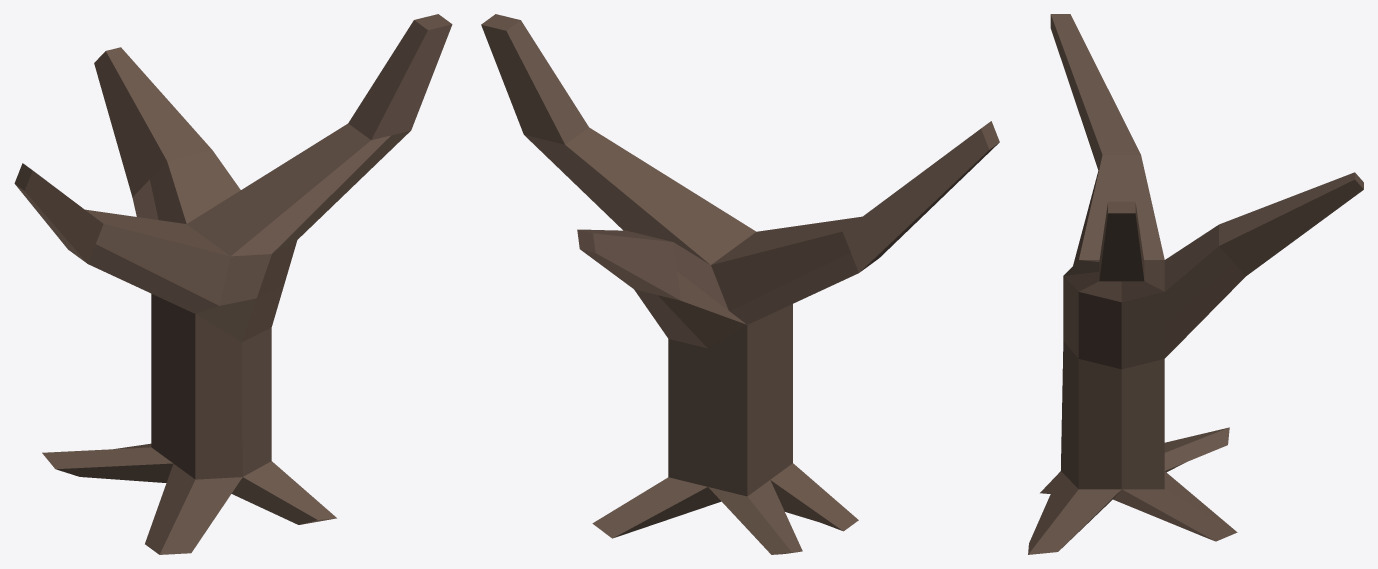
The model's file is Tree02.fbx.
3 renders of one model, left to right at view 1: azimuth 30°, elevation 25°; view 2: azimuth 150°, elevation 25°; view 3: azimuth 270°, elevation 25°, orthographic. The views are drawn at different scales.
Parts seen in each view (by area): view 1: Log; view 2: Log; view 3: Log.
Part boxes in pixels (box(x1,y1,x2,y2)): Log: box(14, 14, 452, 554); Log: box(481, 14, 999, 554); Log: box(1028, 14, 1363, 554).
Size of the model in its own units: 1199 by 1091 by 781.
